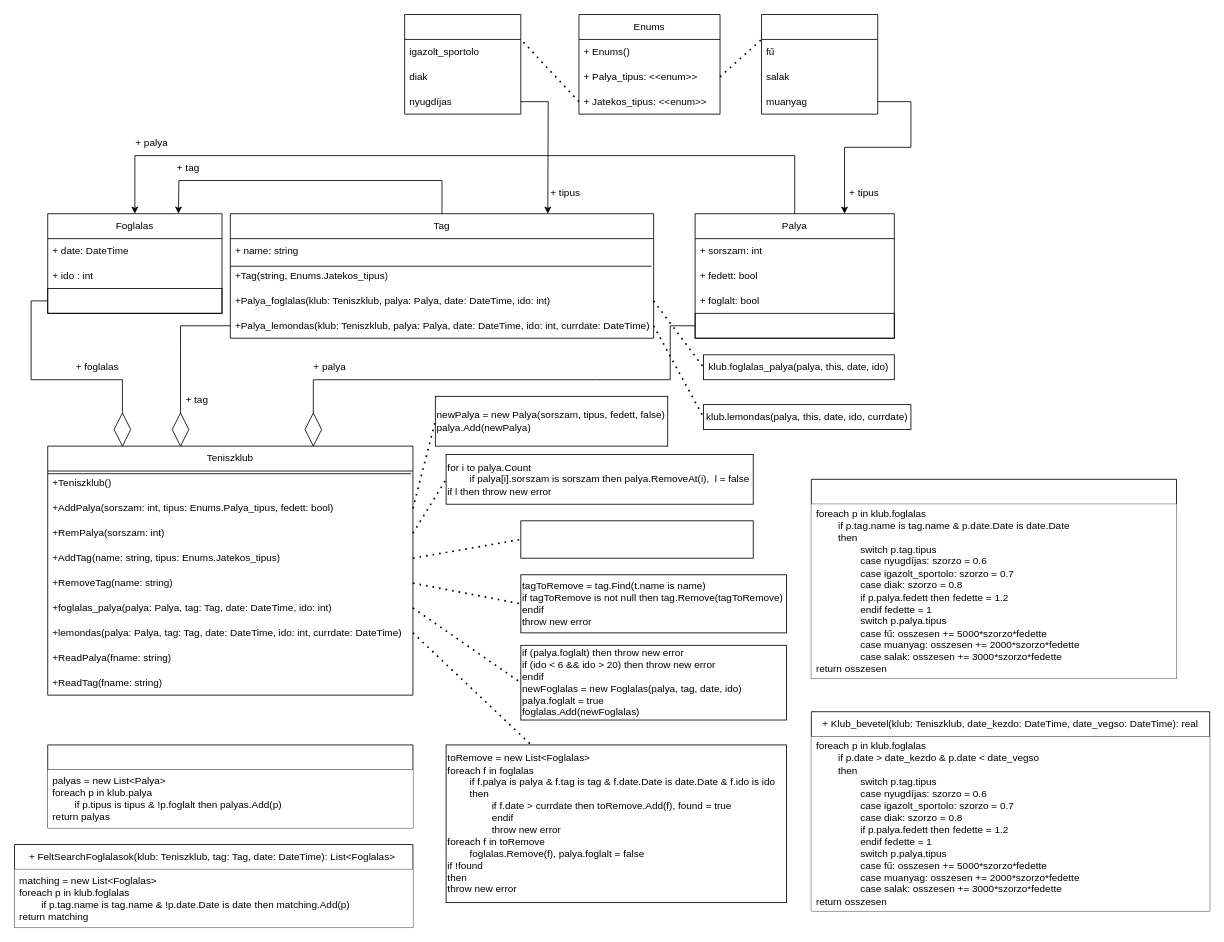
Image size: 1224x942. Some labels were removed from this diagram. The box of each missing label's shape, as (x1, y1, x2, y2) in pixels:
+ FeltSearchPalya(klub: Teniszklub, tipus: Enums.Palya_tipus): List<Palya>: (47, 744, 413, 828)
+ Mennyibe(klub: Teniszklub, tag: Tag, date: DateTime): real: (810, 478, 1177, 679)
+Foglalas(Palya, Tag, DateTime, int): (47, 288, 222, 313)
+Palya(int, Enums.Palya_tipus, bool, bool): (694, 312, 894, 338)
<<enumeration>> Jatekos_tipusok: (404, 14, 521, 114)
<<enumeration>> Palya_tipusok: (761, 14, 878, 114)
newTag = new Tag(name, tipus) tag.Add(newTag): (520, 520, 753, 558)
